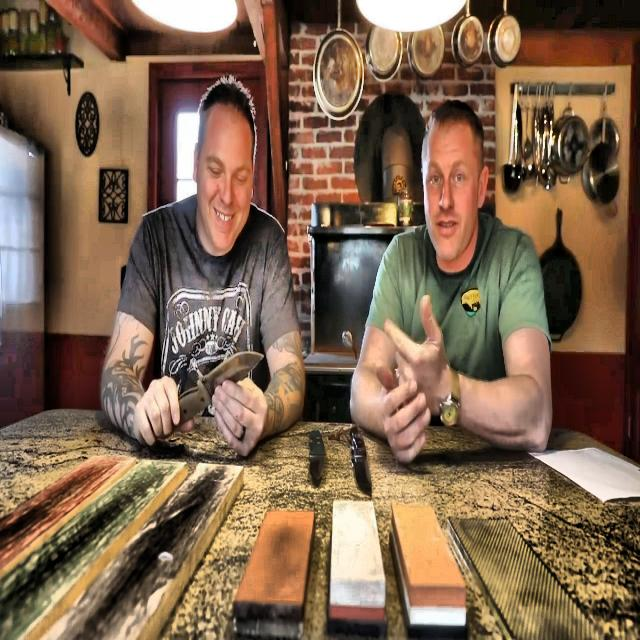knife: (179, 353, 262, 427), (350, 423, 372, 496), (308, 429, 327, 478)
